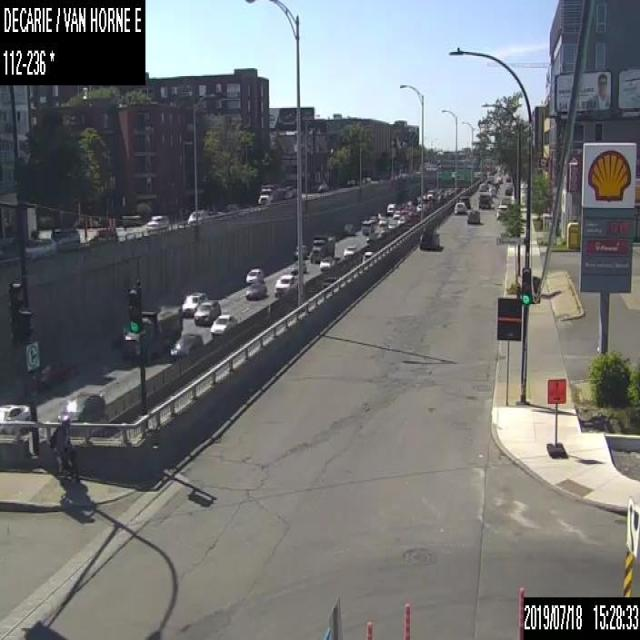construction: (546, 376, 566, 457), (322, 596, 341, 639), (516, 585, 524, 639), (403, 601, 410, 639), (364, 621, 371, 639)
cyclist: (49, 417, 84, 481)
vehicle: (121, 304, 182, 355), (56, 391, 104, 421), (30, 360, 78, 388), (169, 332, 202, 358), (256, 180, 284, 205), (180, 291, 207, 316), (311, 232, 334, 261), (0, 400, 29, 423), (194, 300, 220, 325), (210, 313, 237, 334), (24, 238, 56, 255), (418, 226, 438, 249), (144, 213, 169, 230), (244, 280, 266, 299), (274, 274, 295, 293), (186, 208, 209, 224), (246, 266, 263, 282), (359, 249, 376, 264), (290, 260, 306, 274), (478, 190, 490, 208), (495, 204, 510, 218), (294, 243, 307, 259), (361, 220, 376, 233), (319, 256, 334, 269), (467, 209, 480, 223), (312, 180, 327, 192), (343, 222, 355, 235), (343, 245, 357, 256), (454, 201, 466, 213), (459, 194, 469, 208), (499, 193, 510, 205), (385, 202, 395, 214), (396, 216, 406, 226), (426, 188, 434, 200), (387, 218, 396, 228), (478, 181, 487, 190), (488, 185, 496, 195), (504, 184, 512, 194), (378, 217, 386, 225), (392, 210, 400, 218), (495, 174, 502, 182), (416, 203, 421, 211), (505, 175, 510, 181)
